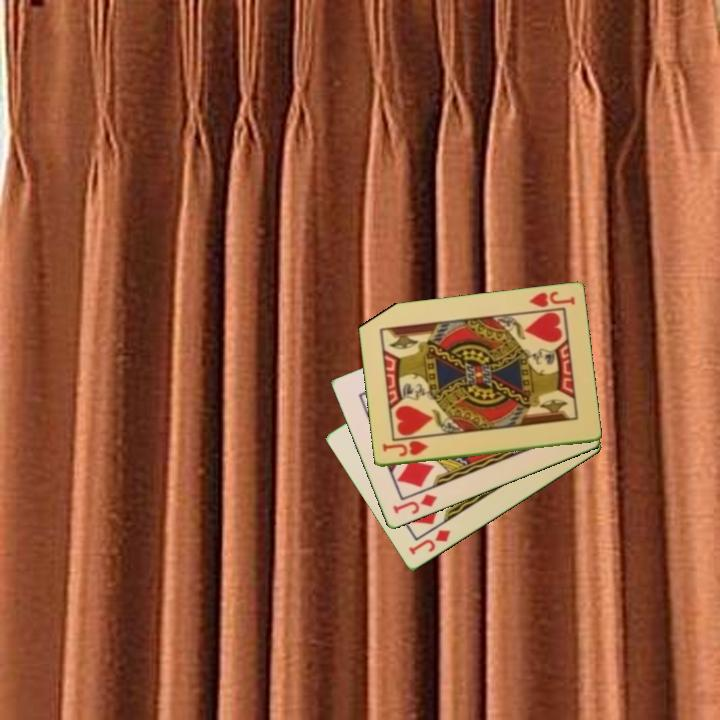Jd: (405, 526, 453, 558), (389, 490, 440, 518)
Jh: (525, 288, 578, 311), (379, 437, 431, 460)
